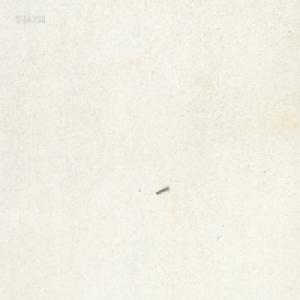Bolt: (155, 186, 168, 196)
